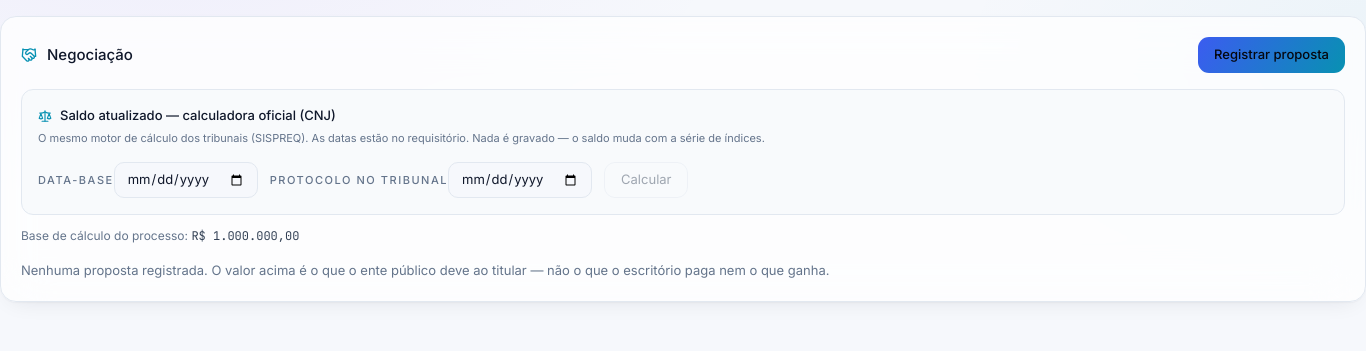
Test: Calculadora oficial (CNJ) › erro da calculadora fica no painel, sem derrubar a aba
Expected: the text "Saldo atualizado — calculadora oficial (CNJ)" is shown, 38,107 -> 336,123
Type "2024-07-01" into the date field labelled "Data-base" at (186, 180), box 114,162 -> 258,198
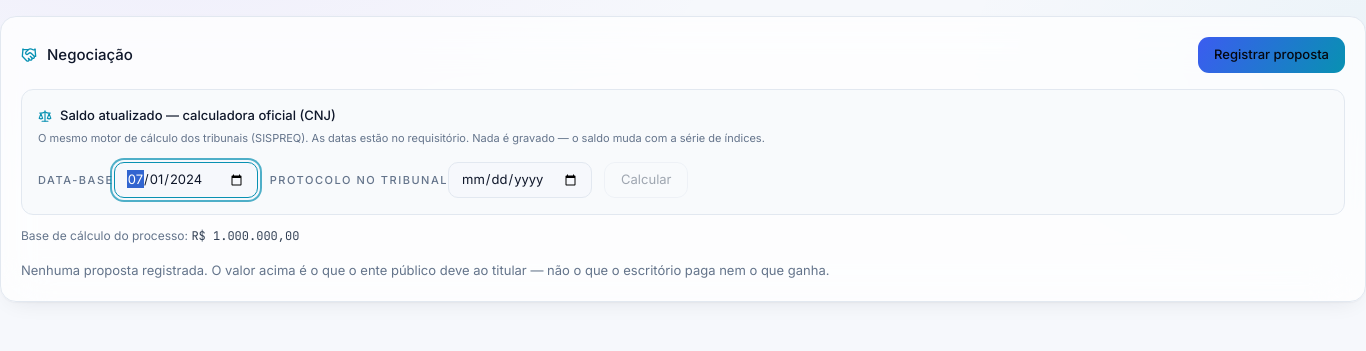
Type "2024-08-15" into the date field labelled "Protocolo no tribunal" at (520, 180), box 448,162 -> 592,198
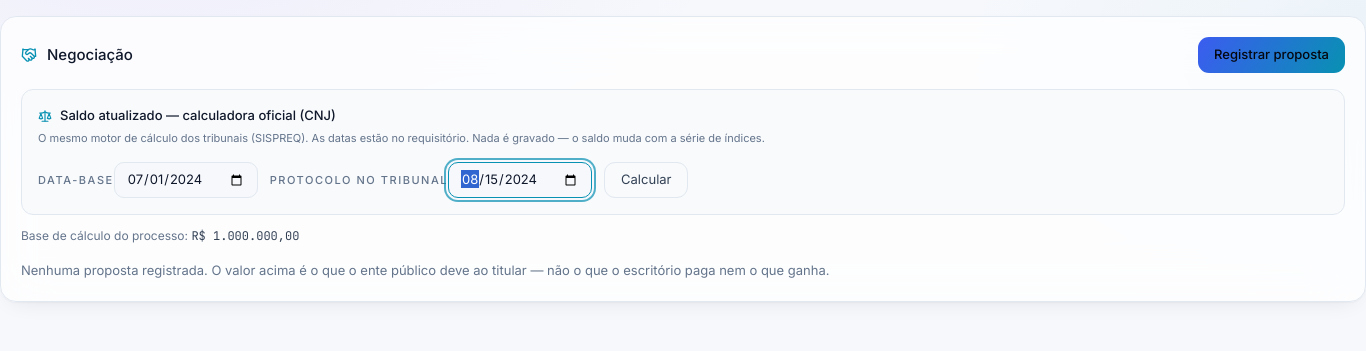
Click the button "Calcular" at (646, 180), box 604,162 -> 688,198
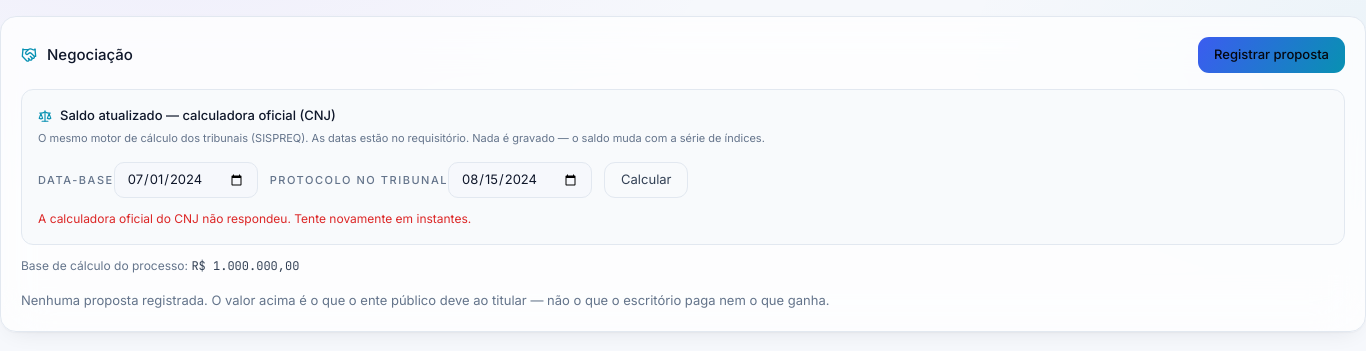
Expected: the heading "Negociação" is shown, 47,44 -> 133,66
Expected: the message shows "não respondeu", 38,211 -> 471,226
